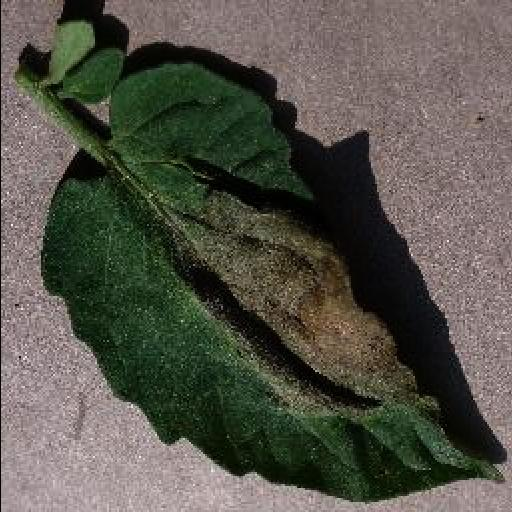disease_tomato: (38, 66, 504, 506)
